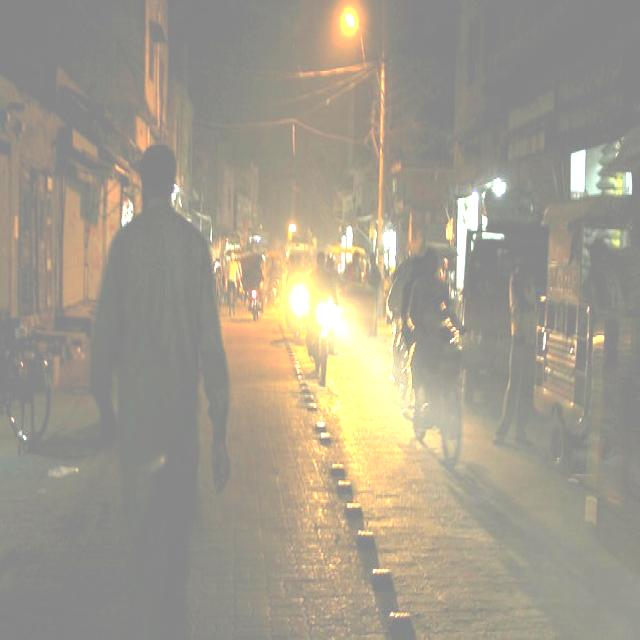Motorbike: (404, 300, 464, 468), (302, 284, 338, 379)
